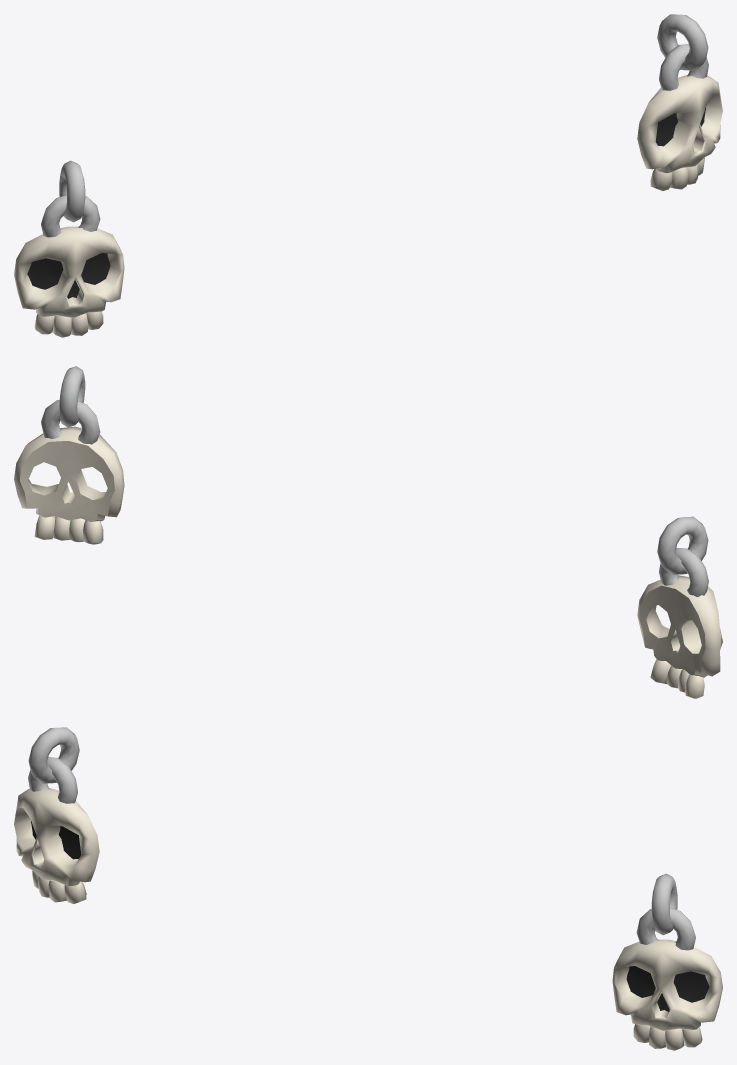
File: Earring_19.fbx
3 renders of one model, top to bottom at view 1: azimuth 30°, elevation 25°; view 2: azimuth 150°, elevation 25°; view 3: azimuth 330°, elevation 25°, orthographic.
Parts seen in each view (by area): view 1: Earring_19; view 2: Earring_19; view 3: Earring_19.
Part boxes in pixels (x1,y1,x2,y2): Earring_19: (14,14,722,337); Earring_19: (14,366,722,698); Earring_19: (14,727,722,1050).
Size of the model in its own units: 58.2 by 13.58 by 4.23.
